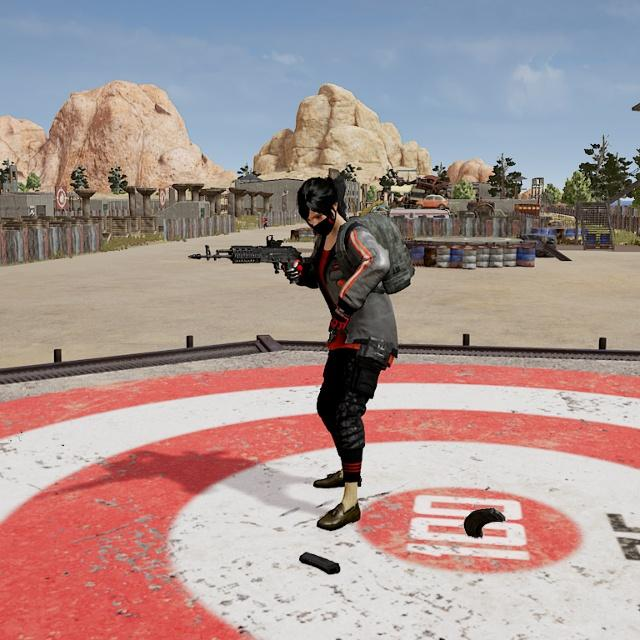head: (295, 171, 343, 237)
people: (280, 166, 403, 533)
